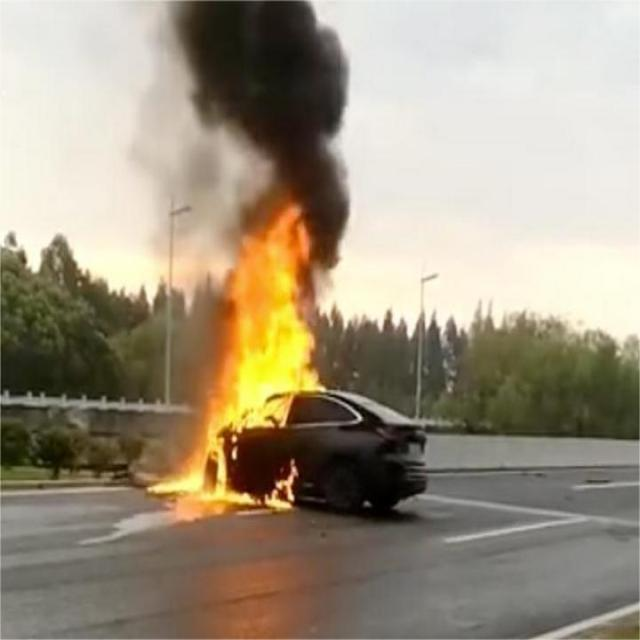Fire: (220, 208, 320, 424), (148, 432, 252, 504), (266, 457, 300, 515)
Smoke: (134, 1, 346, 169), (305, 165, 352, 266)
